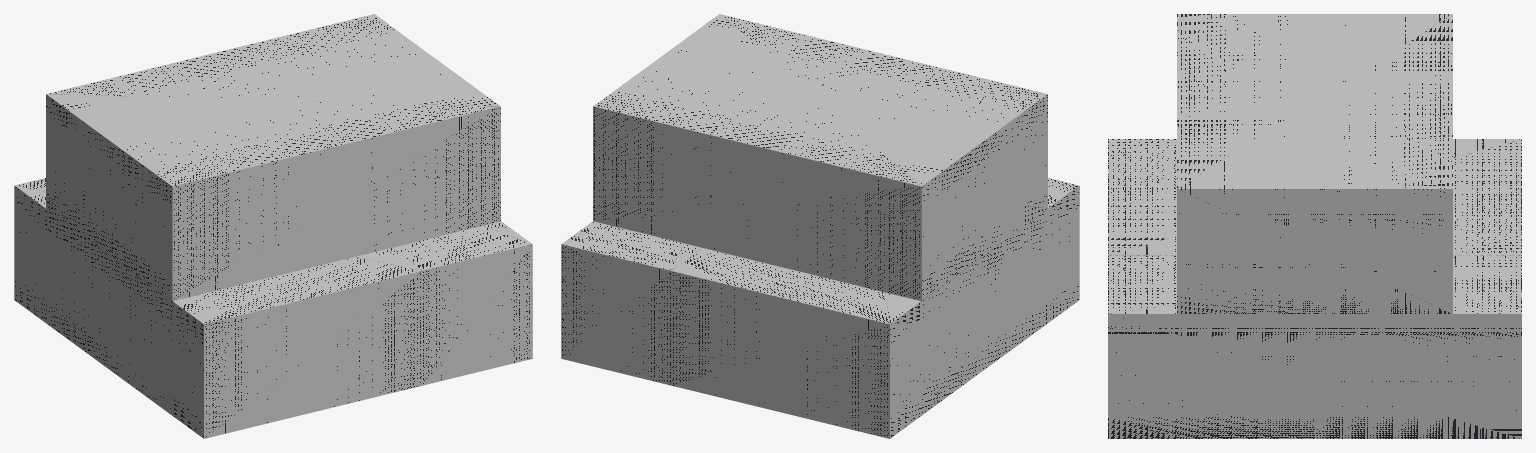
Rendered from coal-piece.fbx.
3 views of the same model, side by side, from view 1: azimuth 30°, elevation 25°; view 2: azimuth 150°, elevation 25°; view 3: azimuth 270°, elevation 25° (orthographic). The views are drawn at different scales.
Parts seen in each view (by area): view 1: generated; view 2: generated; view 3: generated.
Part boxes in pixels (bbox=[...]): generated: bbox=[14, 14, 532, 438]; generated: bbox=[561, 14, 1079, 438]; generated: bbox=[1108, 14, 1521, 438].
Size of the model in its own units: 30 by 20 by 30.
1 material, 1 textured.
